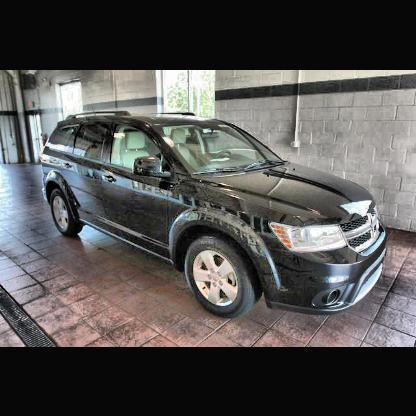Dodge Journey SUV 2012: (44, 111, 389, 319)
